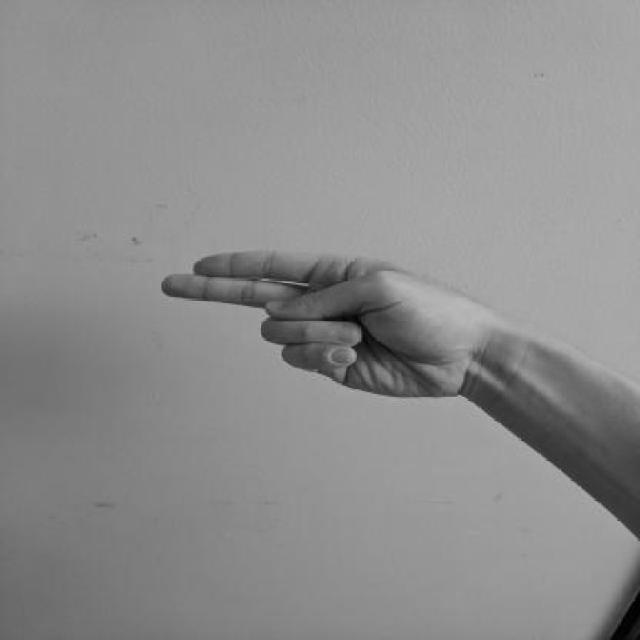H: (152, 244, 480, 410)
